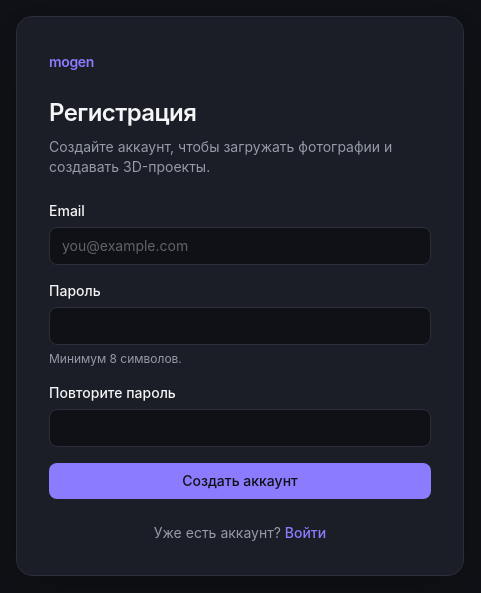
Test case: RegisterPage › requires a password of at least eight characters
The image size is (481, 593).
Type "user@example.com" into the field labelled "Email".
click(240, 246); type("user@example.com")  # box [49, 227, 431, 265]
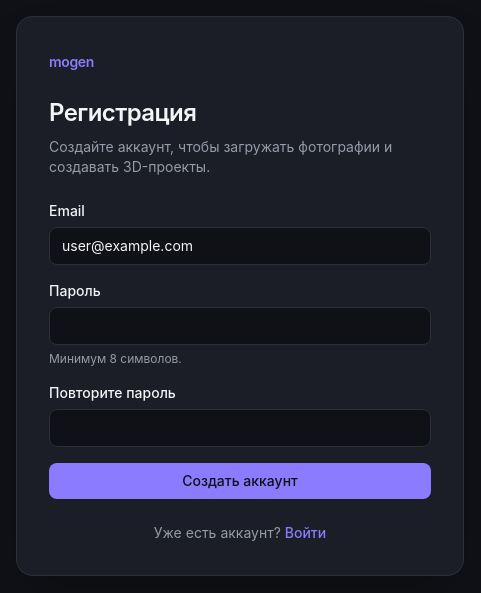
Type "short" into the password field labelled "Пароль".
click(240, 326); type("short")  # box [49, 307, 431, 345]
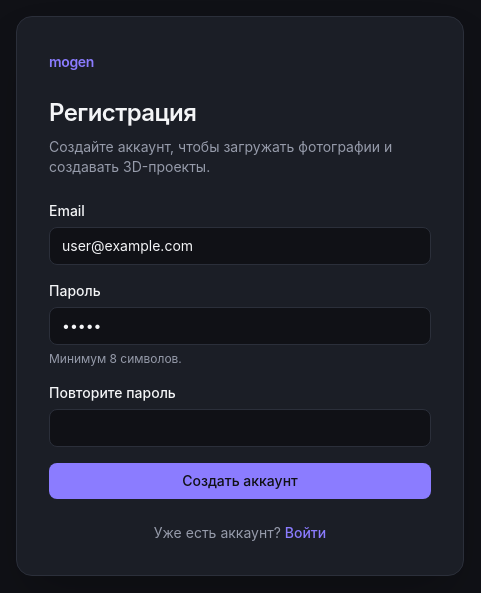
Type "short" into the password field labelled "Повторите пароль".
click(240, 428); type("short")  # box [49, 409, 431, 447]
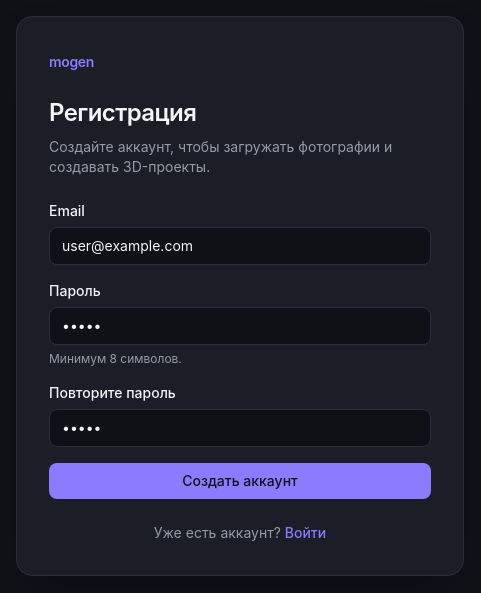
Click the button "Создать аккаунт".
click(240, 481)  # box [49, 463, 431, 499]
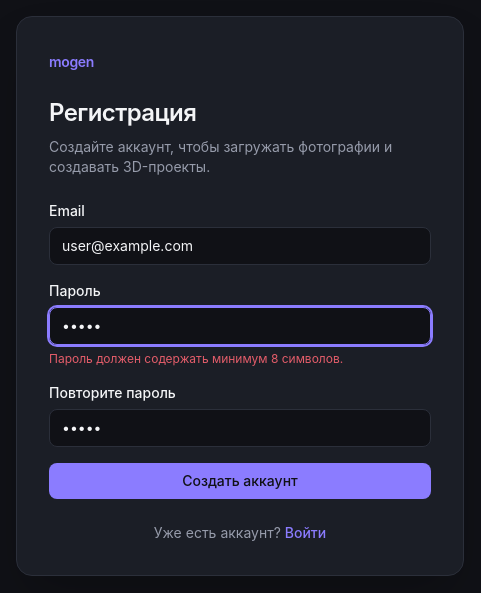
Result: the text "Пароль должен содержать минимум 8 символов." is shown at [49, 351, 343, 366]
